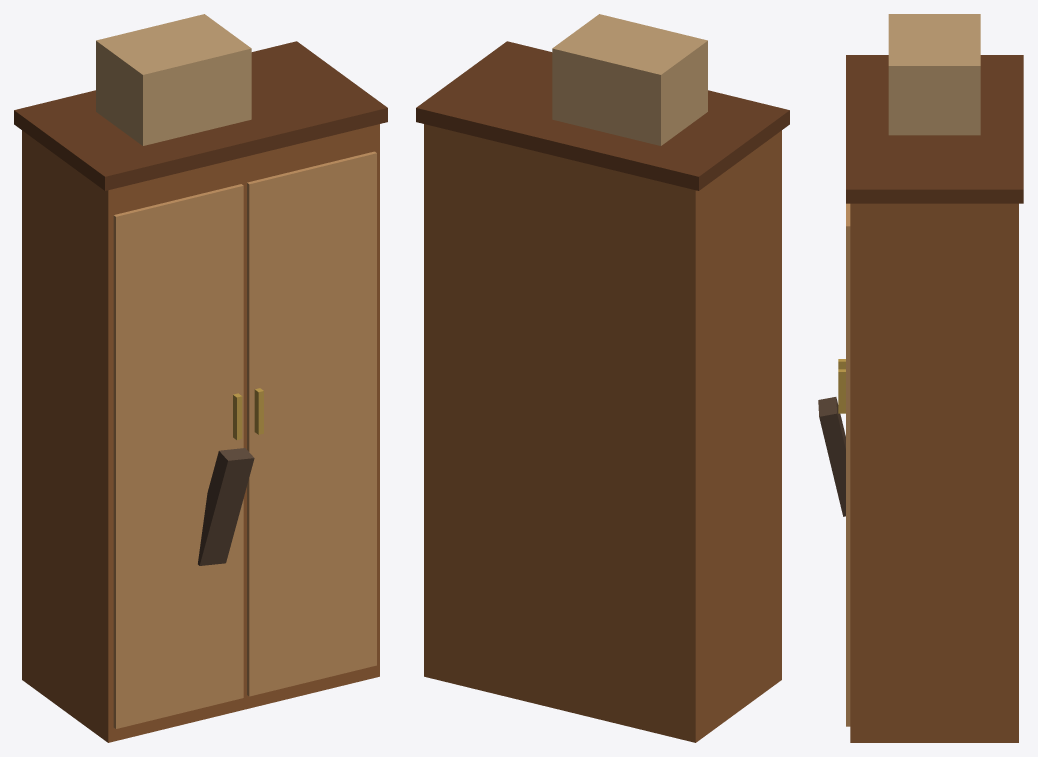
The model's file is wardrobe.fbx.
3 views of the same model, side by side, from view 1: azimuth 30°, elevation 25°; view 2: azimuth 150°, elevation 25°; view 3: azimuth 270°, elevation 25° (orthographic). The views are drawn at different scales.
Visible parts, largest first — view 1: wardrobe; view 2: wardrobe; view 3: wardrobe.
Part boxes in pixels (x1,y1,x2,y2): wardrobe: (14,14,387,742); wardrobe: (416,14,789,742); wardrobe: (818,14,1023,742).
Size of the model in its own units: 4.16 by 9 by 2.68.
